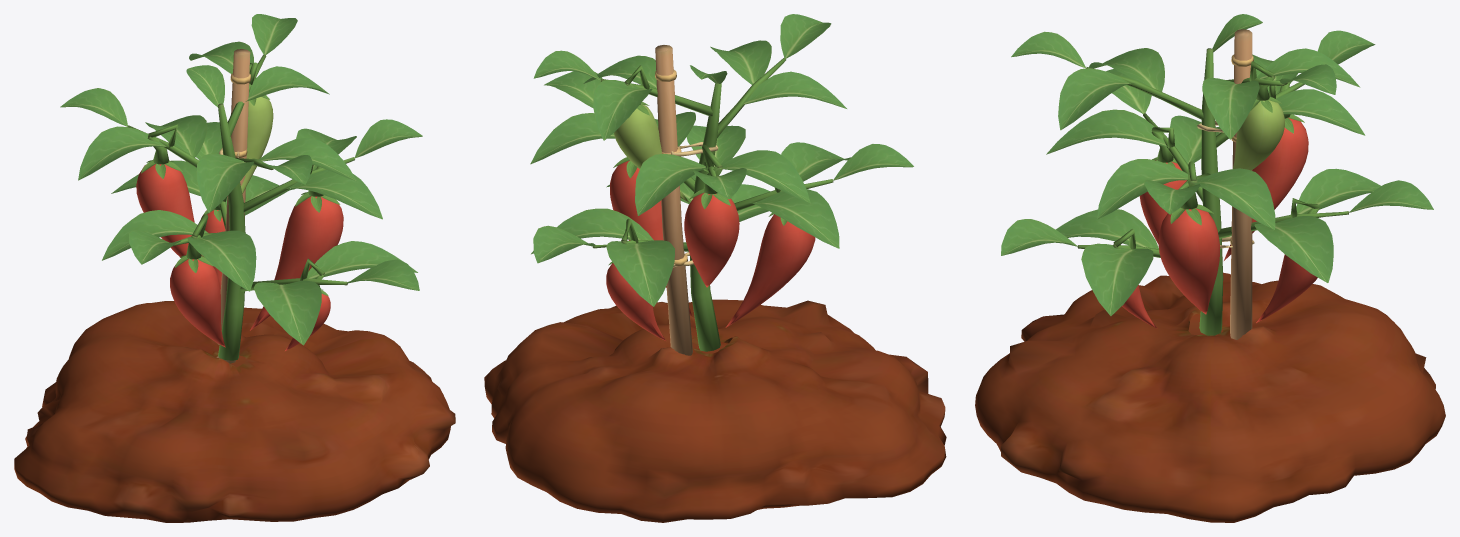
The picture shows the model from 3 angles, left to right: view 1: azimuth 30°, elevation 25°; view 2: azimuth 150°, elevation 25°; view 3: azimuth 270°, elevation 25°; orthographic projection. The views are drawn at different scales.
Visible parts, largest first — view 1: pepper-ready; view 2: pepper-ready; view 3: pepper-ready.
Boxes of the visible parts, left/top/right/bottom form: pepper-ready: left=14, top=14, right=455, bottom=522; pepper-ready: left=484, top=14, right=946, bottom=522; pepper-ready: left=975, top=14, right=1445, bottom=522.
Bounding box in the file's own units: 0.7926 × 0.6905 × 0.7345.
1 material, 1 textured.
